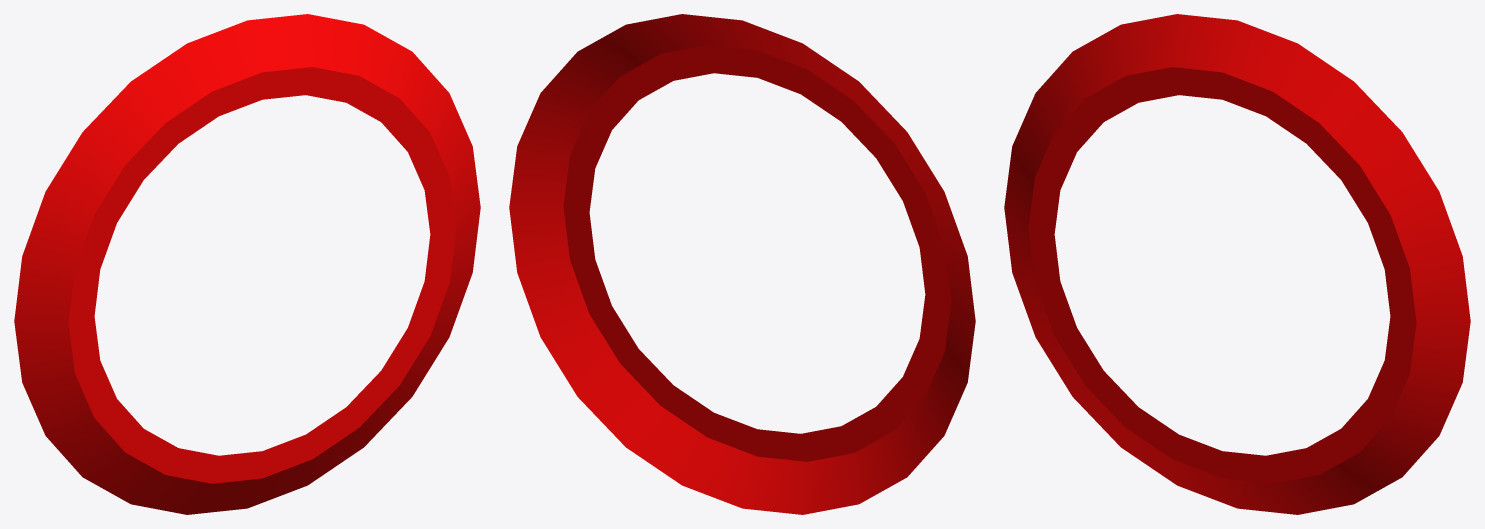
Rendered from original-3.obj.
The picture shows the model from 3 angles, left to right: view 1: azimuth 30°, elevation 25°; view 2: azimuth 150°, elevation 25°; view 3: azimuth 330°, elevation 25°; orthographic projection.
Visible parts, largest first — view 1: #ID19; view 2: #ID19; view 3: #ID19.
Part boxes in pixels (box(x1,y1,x2,y2)): #ID19: box(14, 14, 480, 514); #ID19: box(509, 14, 975, 514); #ID19: box(1004, 14, 1470, 514).
Size of the model in its own units: 0.2639 by 0.2639 by 0.0147.
